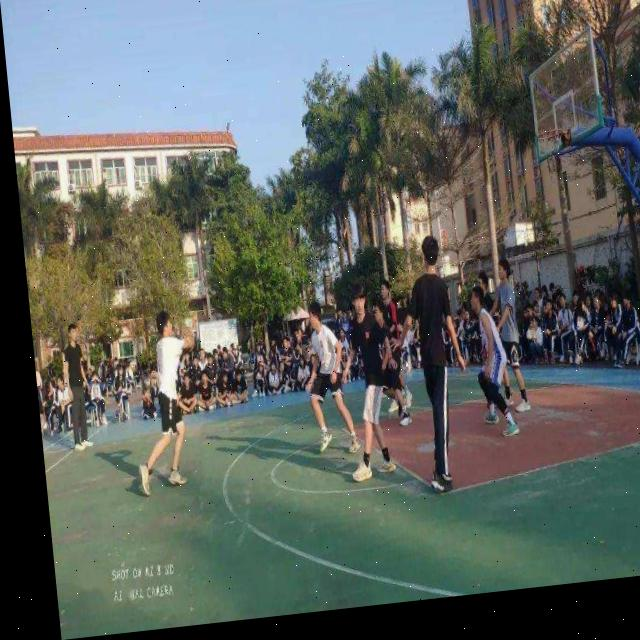basketball: (181, 325, 196, 353)
hoop: (537, 126, 567, 177)
